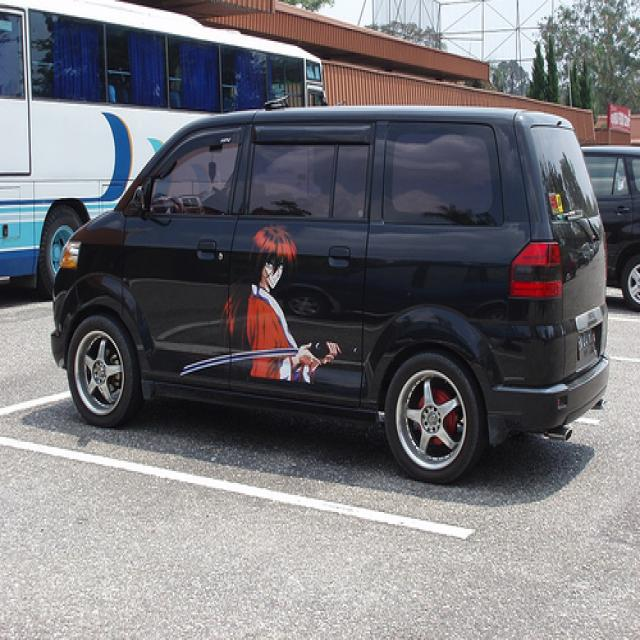Car: (46, 110, 612, 487), (0, 0, 329, 297)
